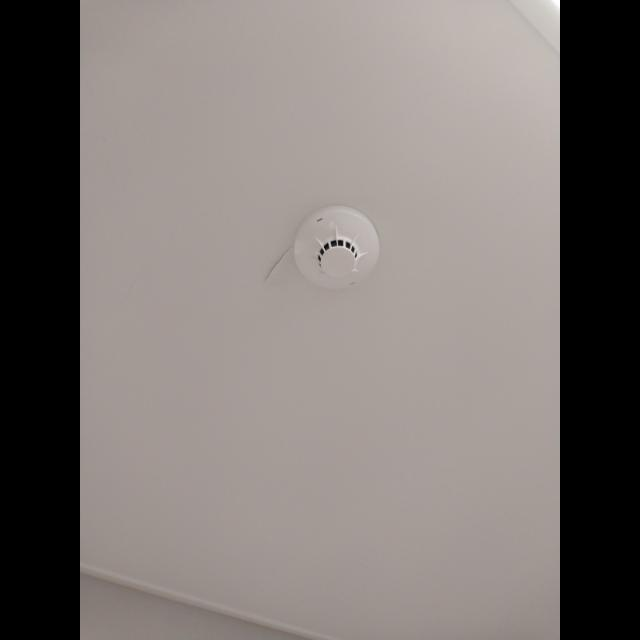Smoke-Detector: (296, 205, 380, 292)
